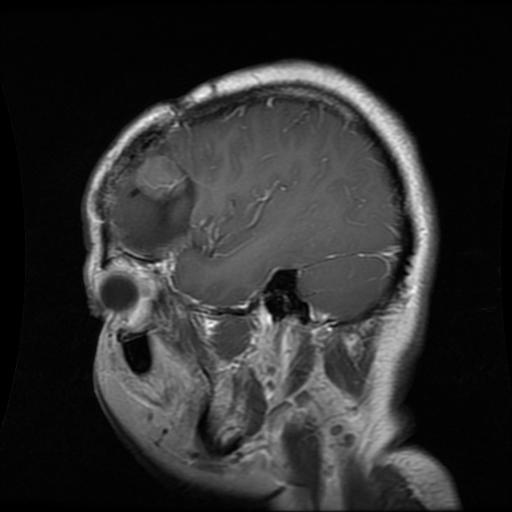Gliomia_tumour: (116, 155, 194, 249)
